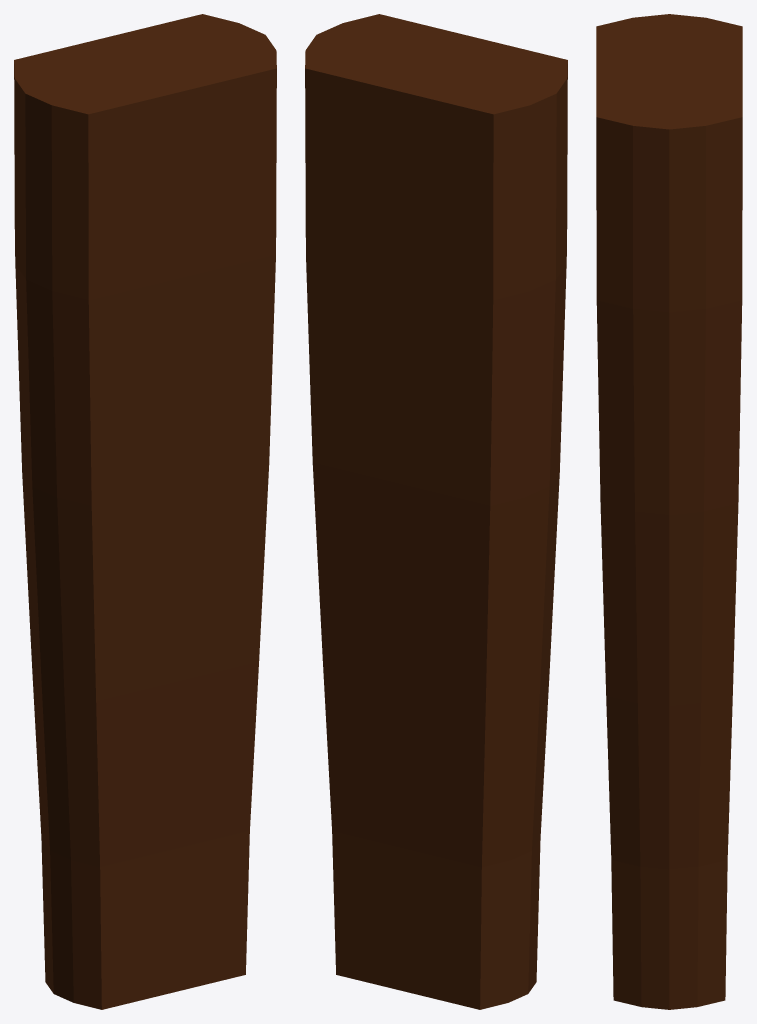
Rendered from ModularSwordKit_Grip01.fbx.
3 renders of one model, left to right at view 1: azimuth 30°, elevation 25°; view 2: azimuth 150°, elevation 25°; view 3: azimuth 270°, elevation 25°, orthographic.
Parts seen in each view (by area): view 1: Grip01; view 2: Grip01; view 3: Grip01.
Part boxes in pixels (box(x1,y1,x2,y2)): Grip01: box(14, 14, 276, 1009); Grip01: box(305, 14, 567, 1009); Grip01: box(596, 14, 742, 1009).
Size of the model in its own units: 16.04 by 57.88 by 8.59.
